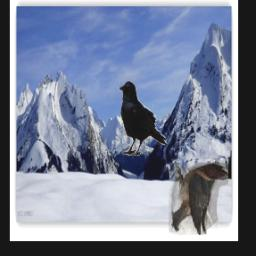Crow: (118, 80, 169, 157)
Swallow: (169, 164, 229, 236)
